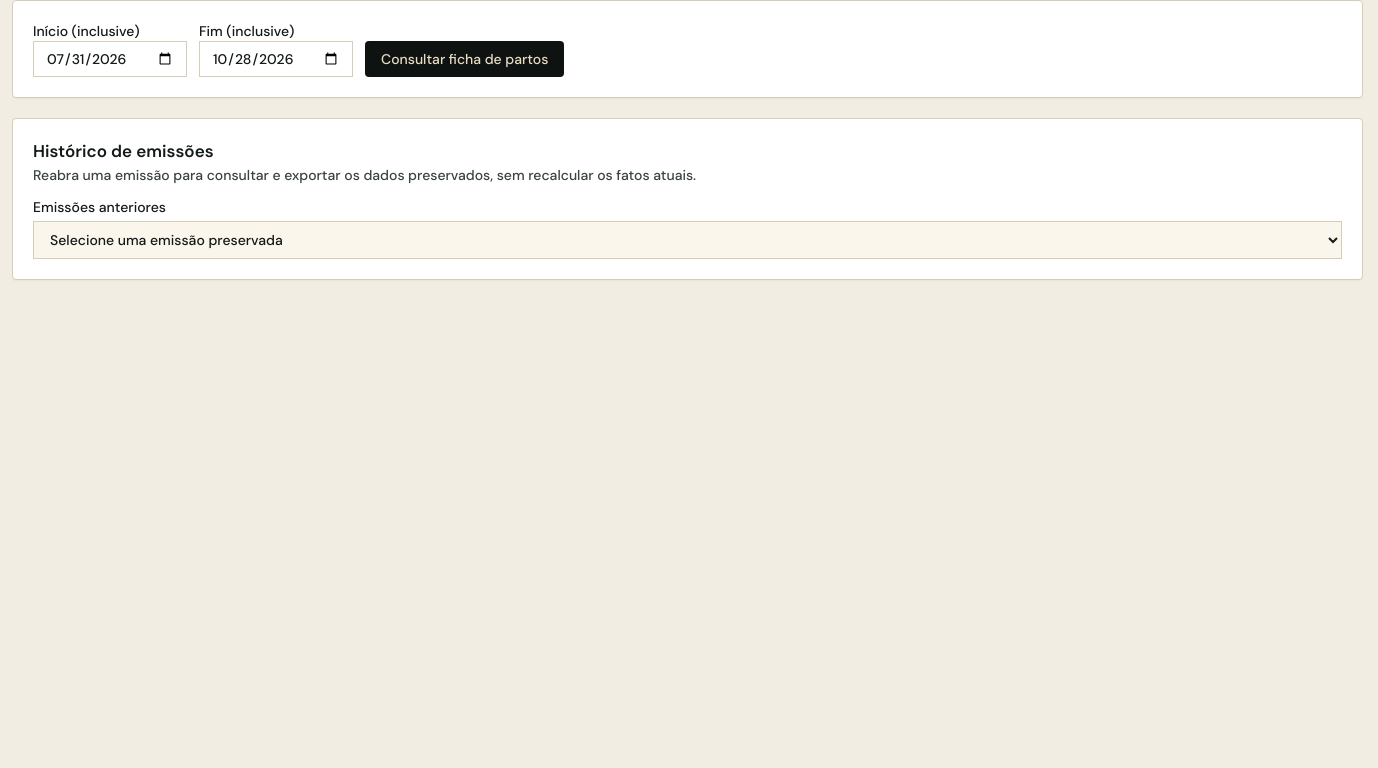
salvar emissão é uma ação separada e reenvia a mesma chave após falha
In the date field labelled "Início (inclusive)": {"x": 110, "y": 59} [33,41,187,77], type "2026-09-01"
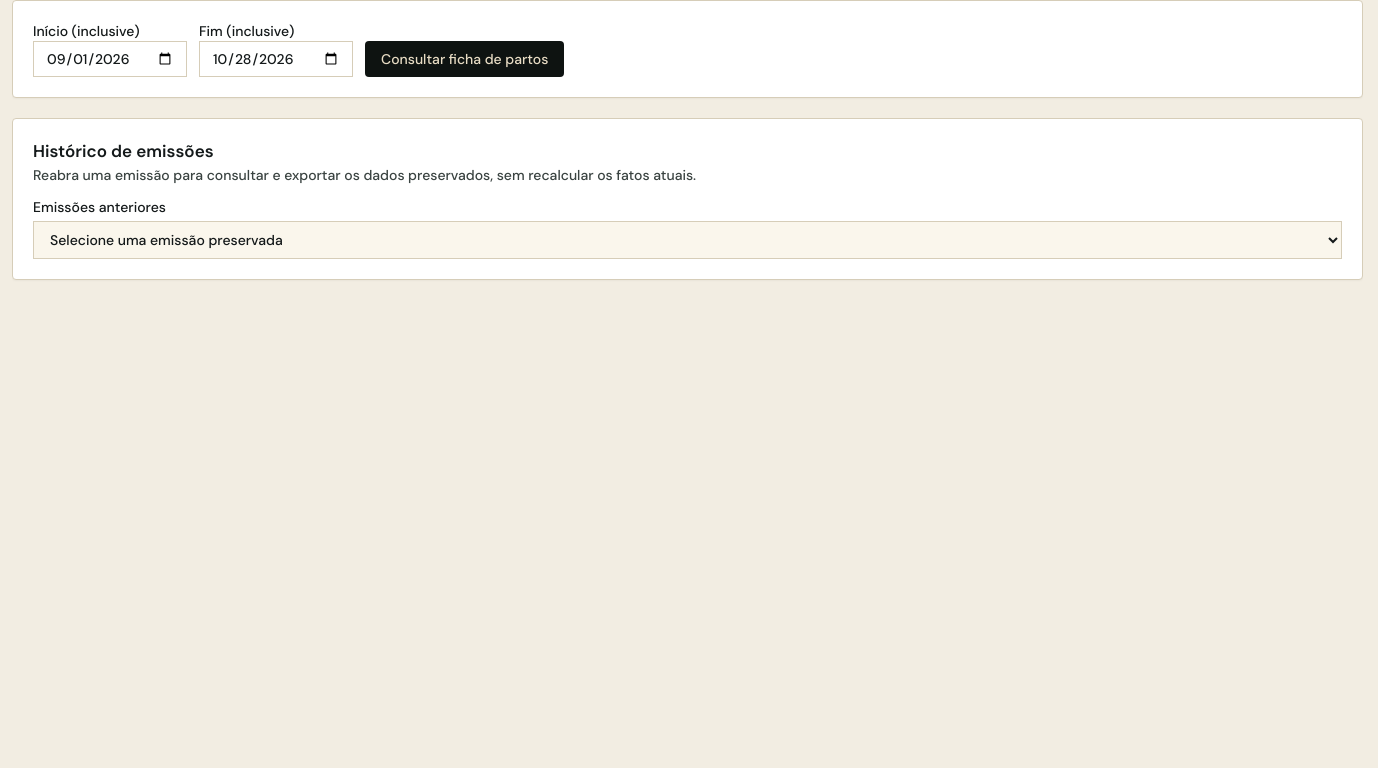
In the date field labelled "Fim (inclusive)": {"x": 276, "y": 59} [199,41,353,77], type "2026-09-30"
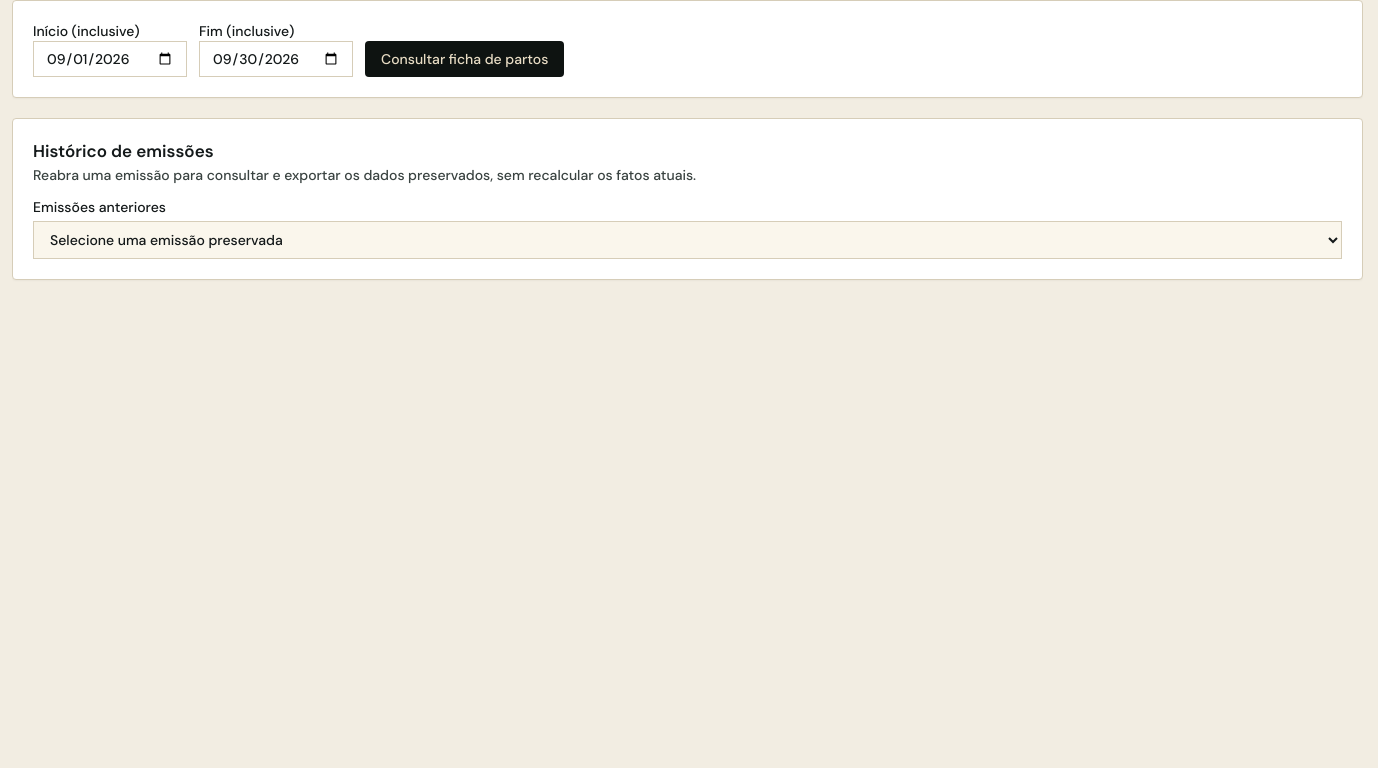
Click the button "Consultar ficha de partos": {"x": 465, "y": 59} [365,41,564,77]
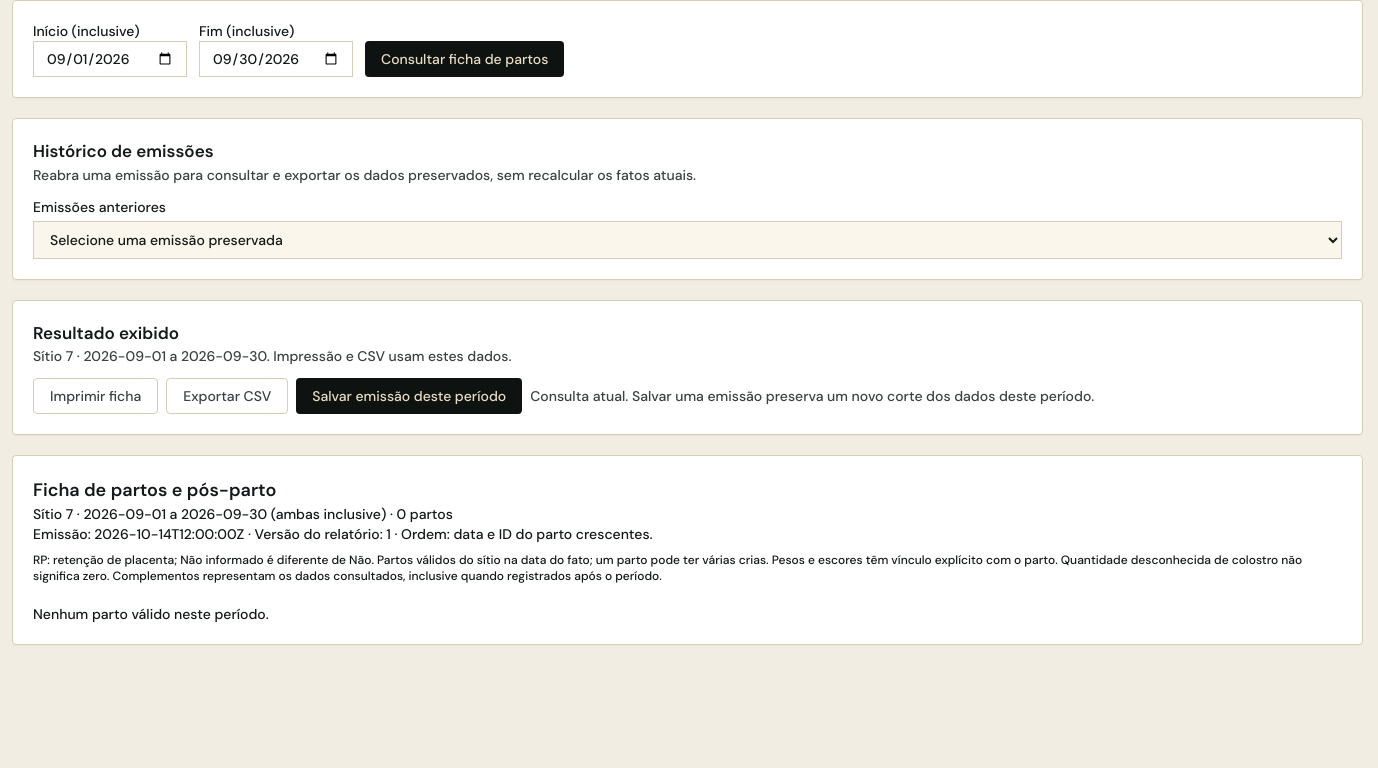
Click the button "Salvar emissão deste período": {"x": 409, "y": 396} [296,378,522,414]
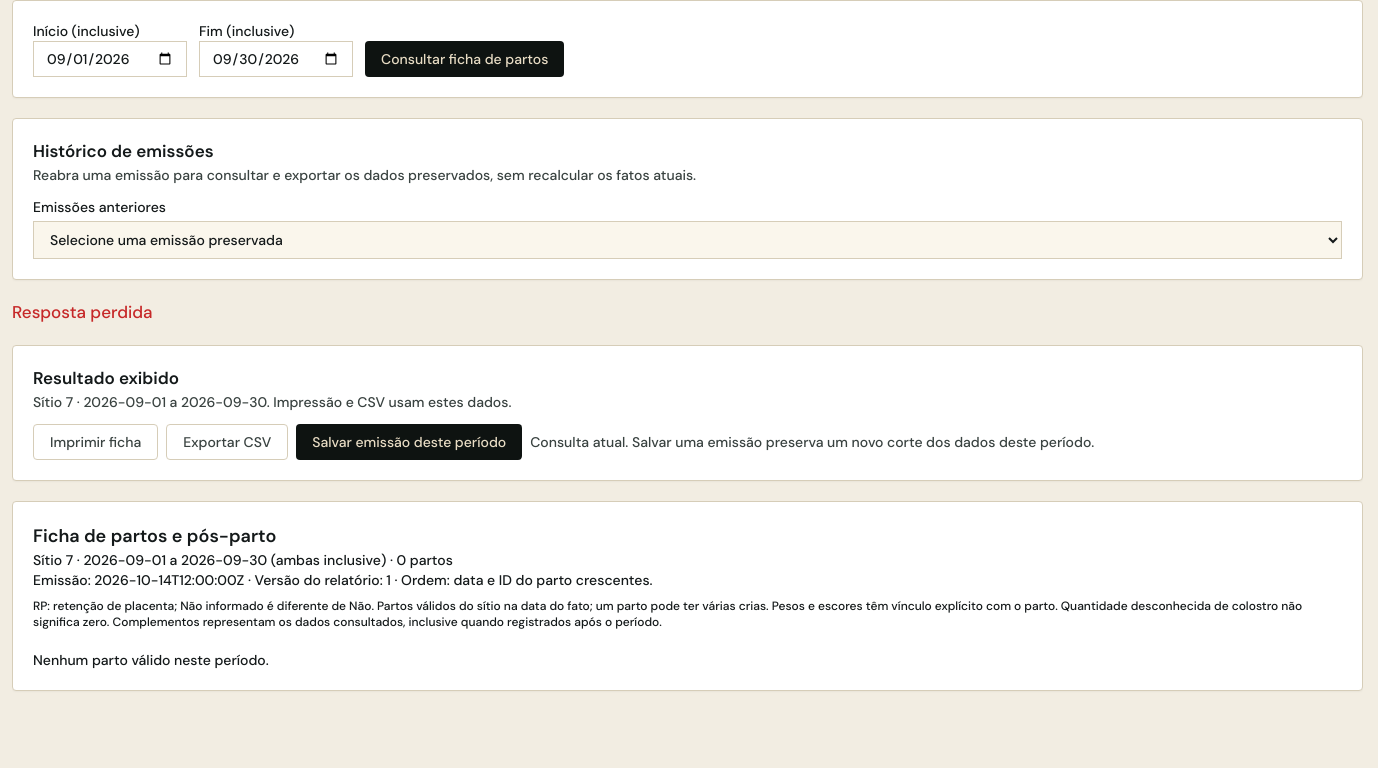
Expected: the message "Resposta perdida" is shown, [12,300,153,322]
Click the button "Salvar emissão deste período": {"x": 409, "y": 442} [296,424,522,460]
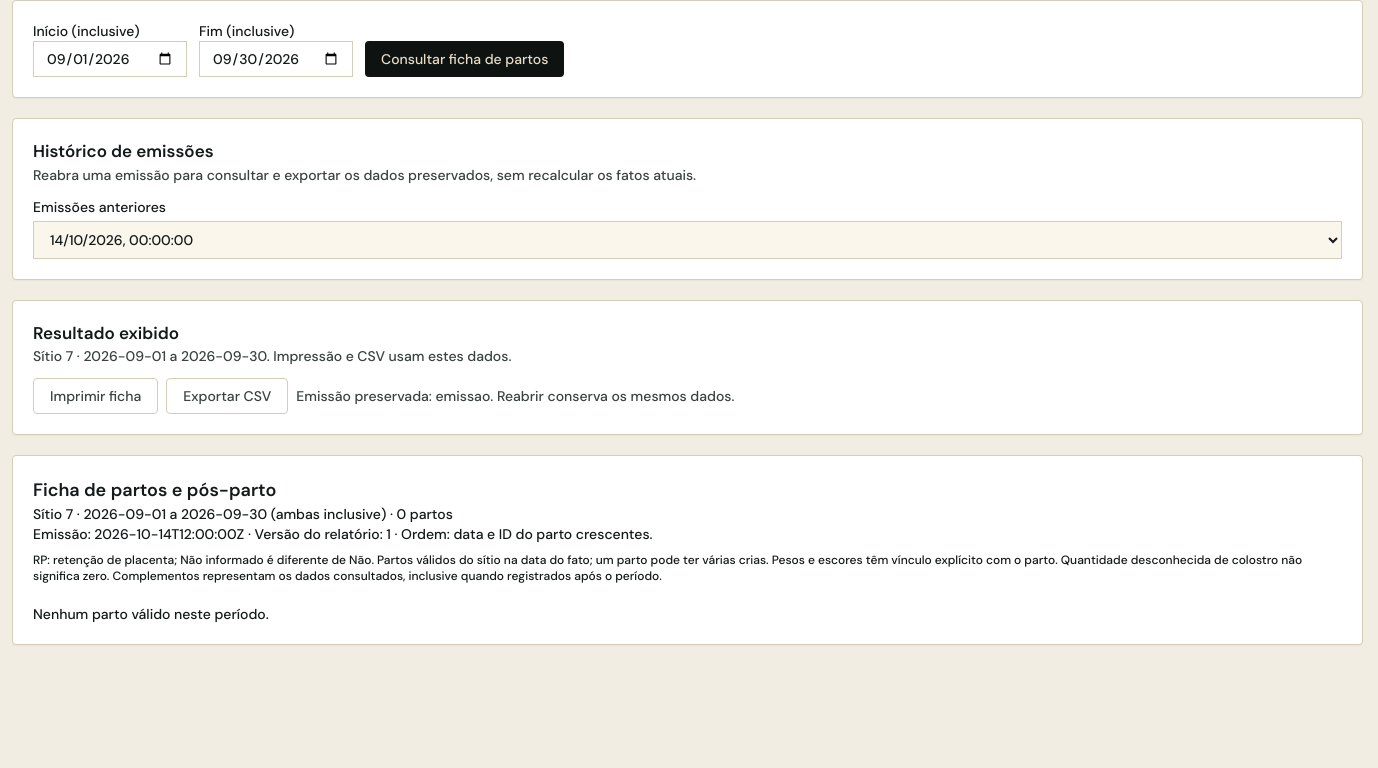
Expected: the text "Emissão preservada: emissao" is shown, [296,387,734,405]
